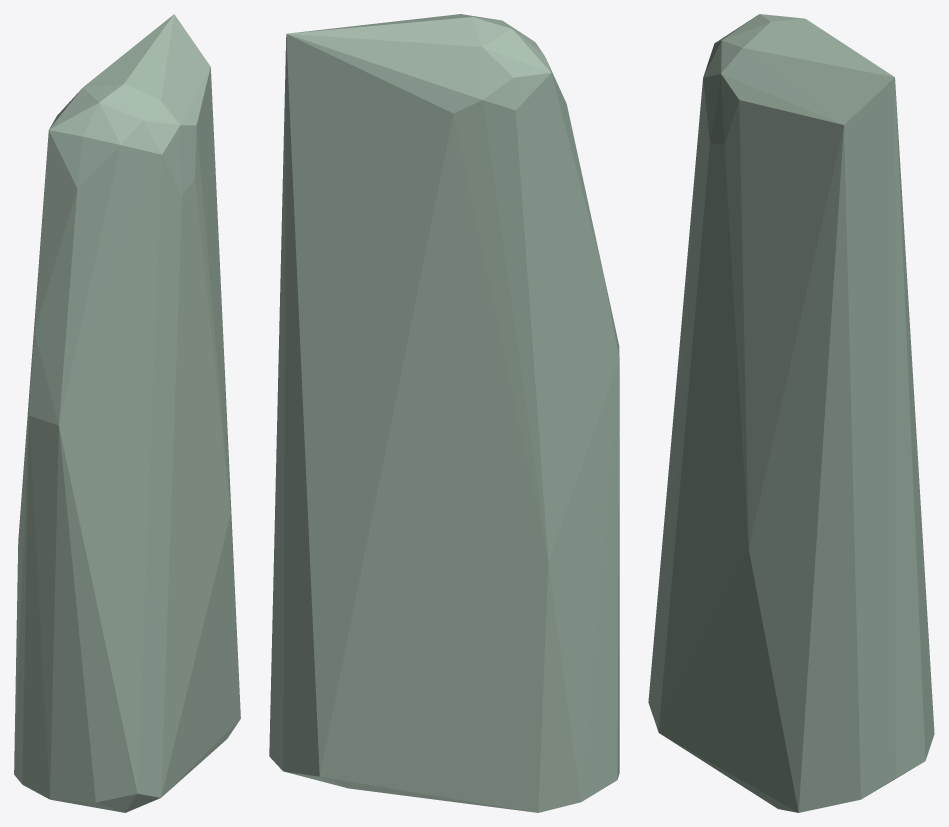
Rendered from stargirl-collider.glb.
3 renders of one model, left to right at view 1: azimuth 30°, elevation 25°; view 2: azimuth 150°, elevation 25°; view 3: azimuth 270°, elevation 25°, orthographic. The views are drawn at different scales.
Visible parts, largest first — view 1: world; view 2: world; view 3: world.
Part boxes in pixels (<box>): world: <box>14,14,240,812</box>; world: <box>269,14,619,812</box>; world: <box>648,14,934,812</box>.
Bounding box in the file's own units: 1.55 × 4.1 × 1.45.
